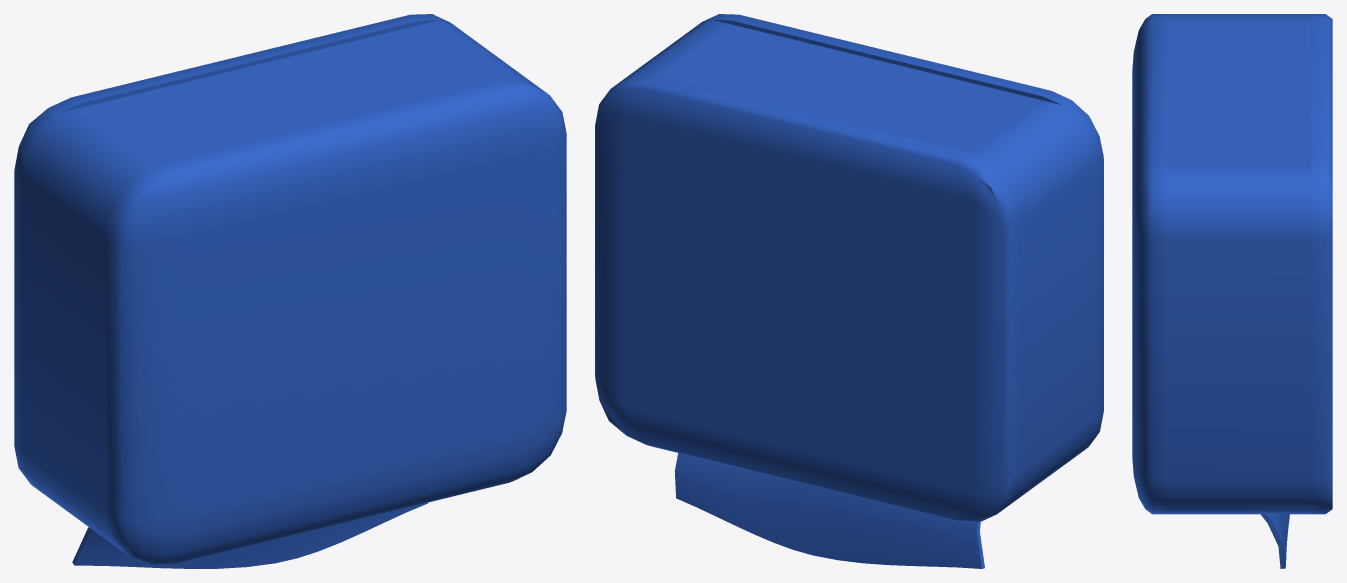
The model's file is Towels.fbx.
3 renders of one model, left to right at view 1: azimuth 30°, elevation 25°; view 2: azimuth 150°, elevation 25°; view 3: azimuth 270°, elevation 25°, orthographic. The views are drawn at different scales.
Parts seen in each view (by area): view 1: Towels; view 2: Towels; view 3: Towels.
Boxes of the visible parts, x1,y1,x2,y2 form: Towels: (14,14,566,568); Towels: (595,14,1103,568); Towels: (1132,14,1332,568).
Size of the model in its own units: 30 by 31.14 by 13.16.
